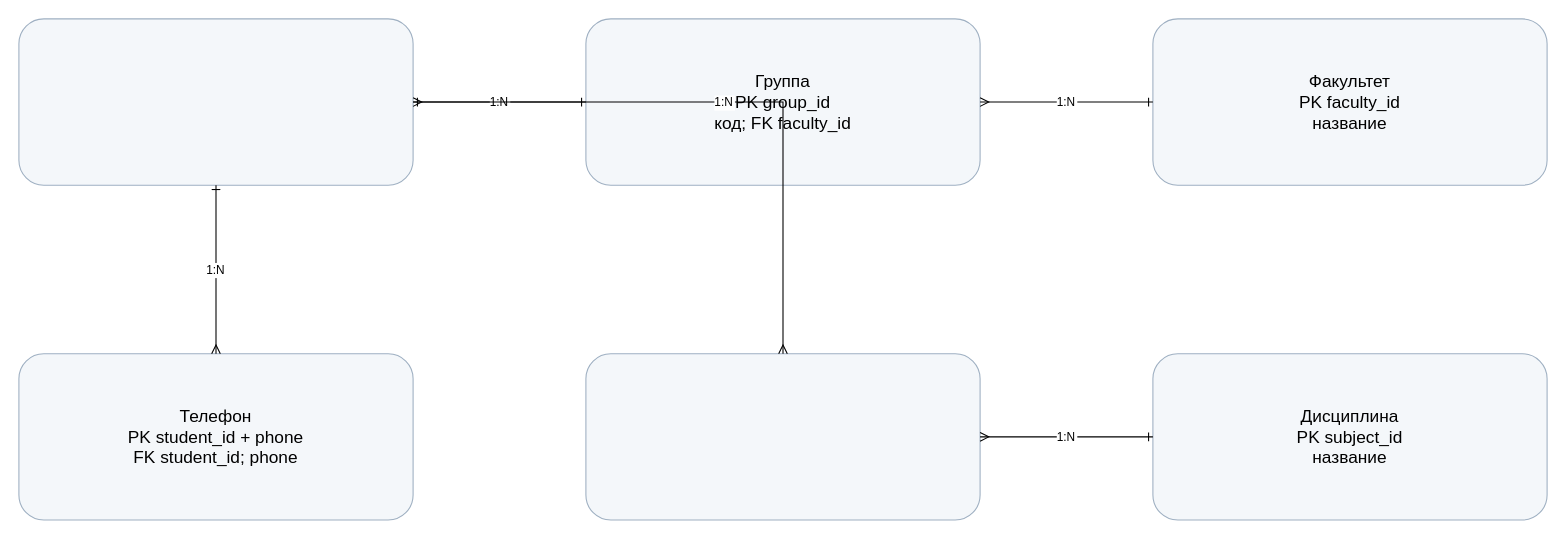
This 1566x539 diagram has some shape labels left out. The shapes that lost their labels are listed below. From the top down, each one's centre as x and y in pixels, then its label:
At pixel 215 101: "Студент PK student_id ФИО; FK group_id".
At pixel 782 436: "Оценка PK student_id + subject_id FK student_id, subject_id оценка".
